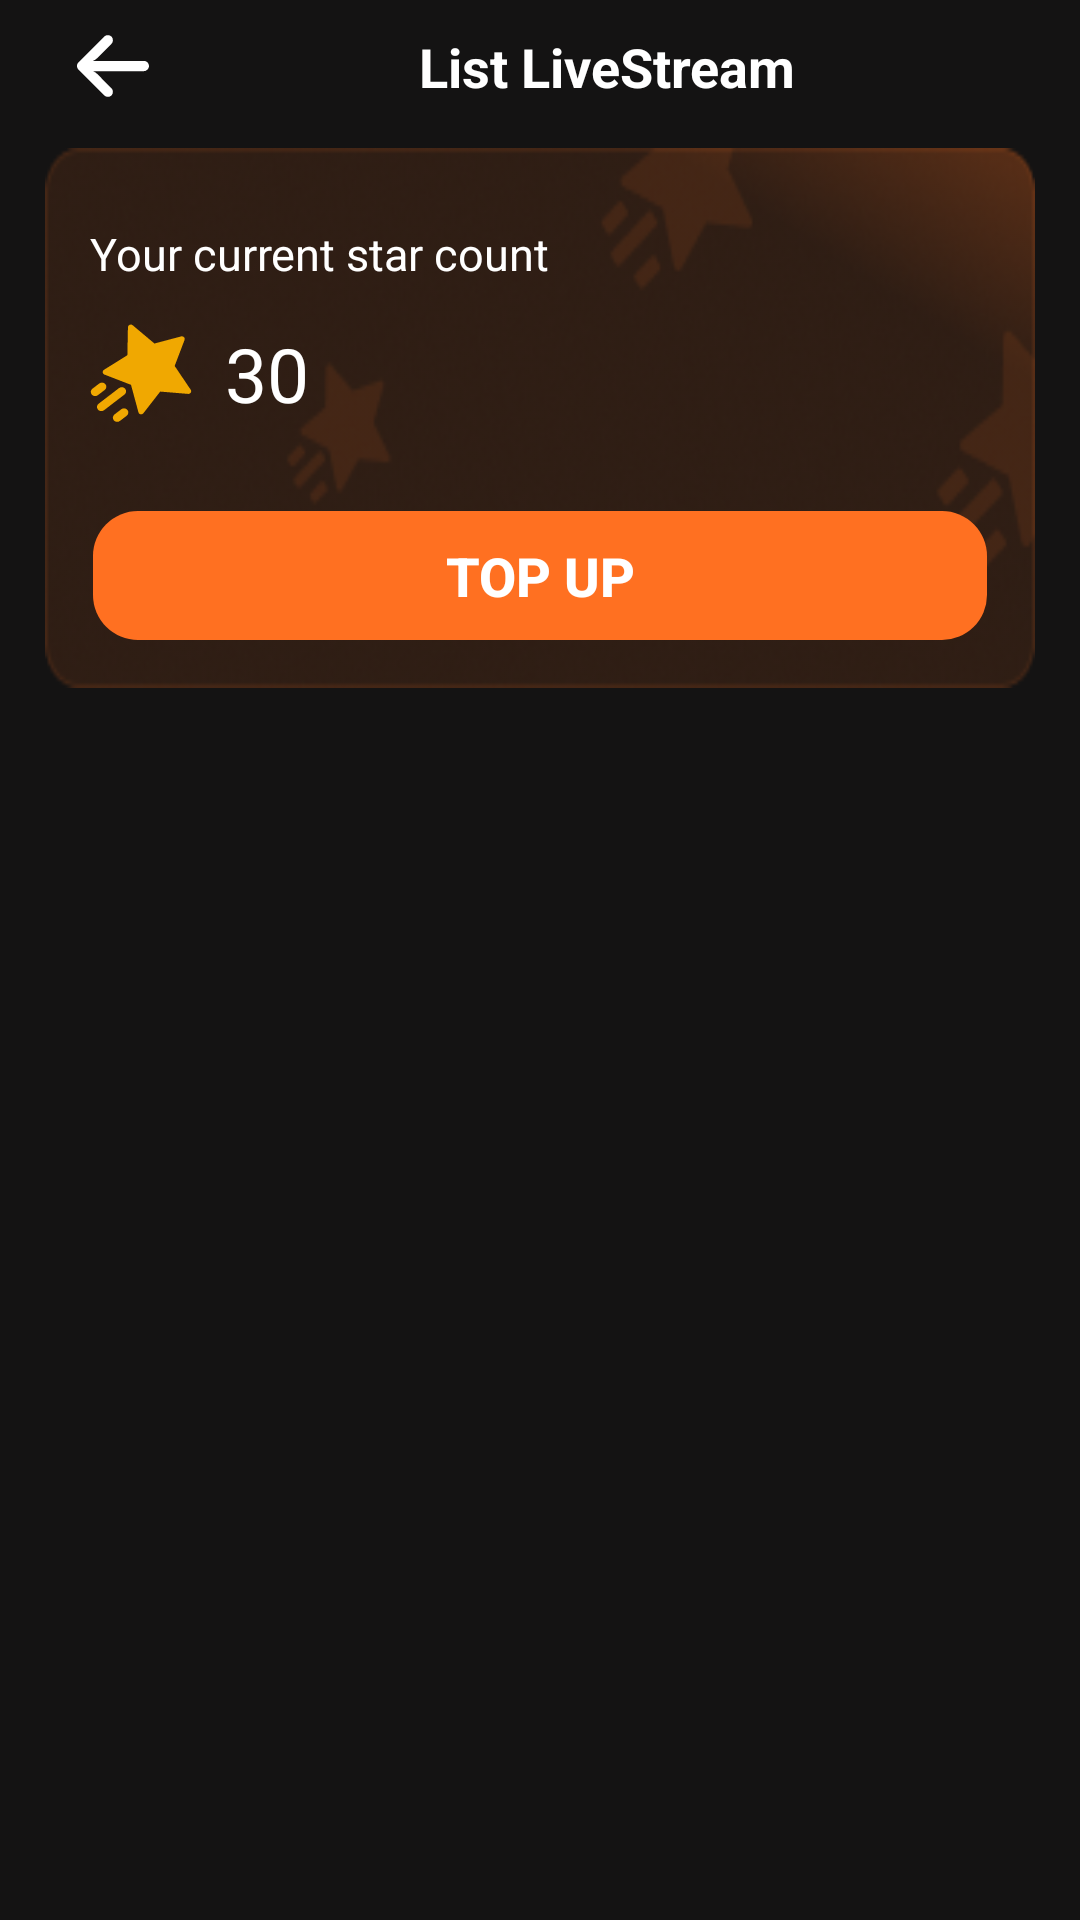

Point at icon controls on the screen. Image size 1080px×1920px, points as (x,y).
star coin: (141,373)
